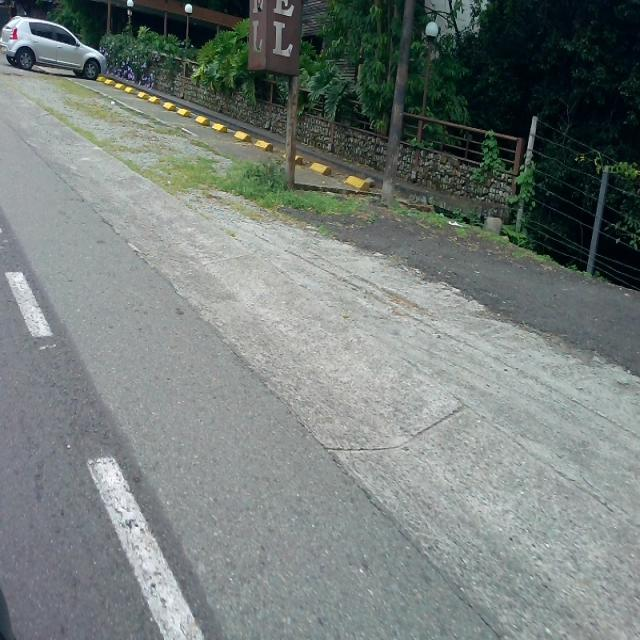DITCH: (1, 64, 638, 638)
